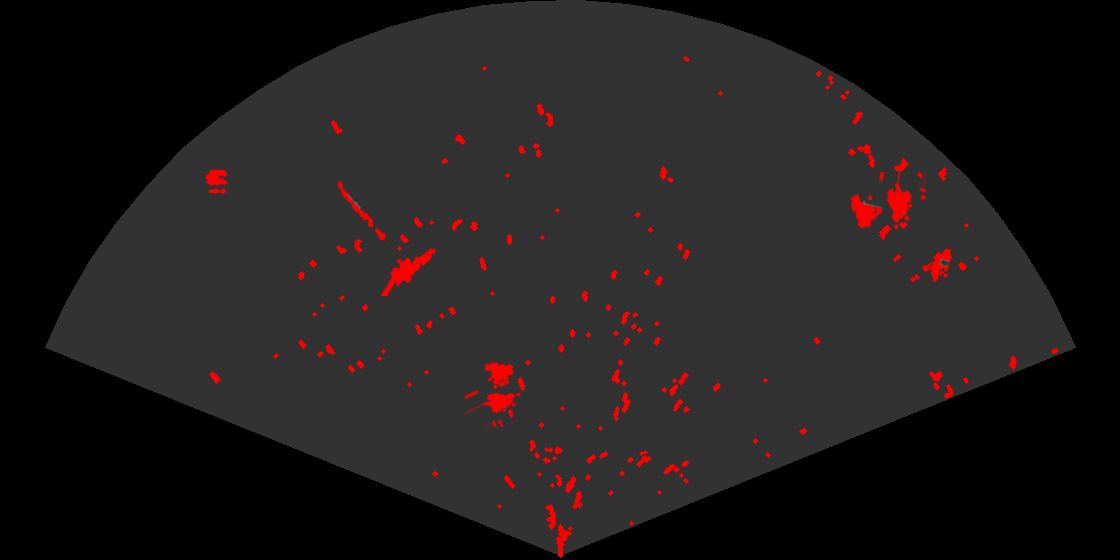AUV: (928, 246, 954, 284)
ball: (204, 168, 230, 195)
cage: (848, 172, 926, 231), (465, 360, 522, 427)
chain: (336, 179, 392, 250)
frogman: (381, 246, 438, 296)
